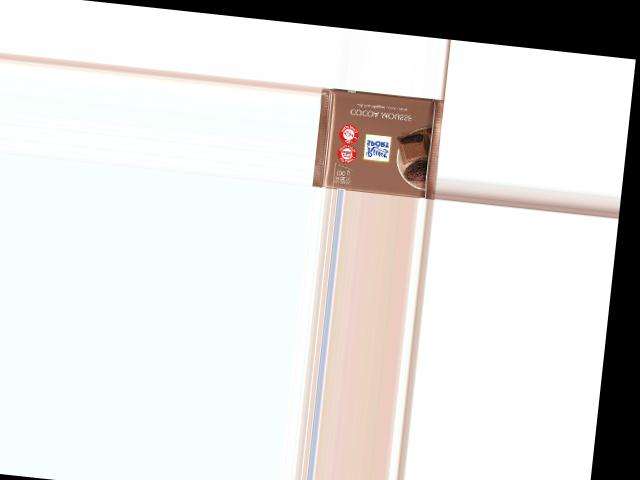chocolate: (313, 86, 445, 199)
